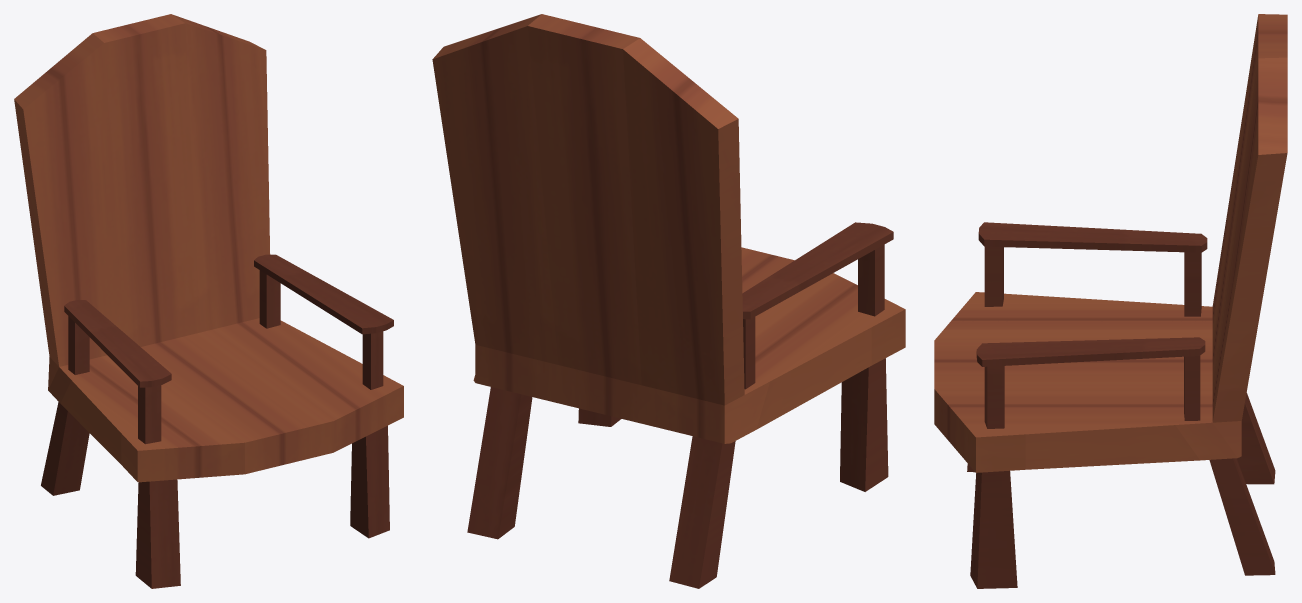
The model's file is chair.fbx.
3 renders of one model, left to right at view 1: azimuth 30°, elevation 25°; view 2: azimuth 150°, elevation 25°; view 3: azimuth 270°, elevation 25°, orthographic. The views are drawn at different scales.
Visible parts, largest first — view 1: Cube; view 2: Cube; view 3: Cube.
Boxes of the visible parts, bbox=[...] form: Cube: bbox=[14, 14, 403, 588]; Cube: bbox=[432, 14, 905, 588]; Cube: bbox=[934, 14, 1287, 588].
Bounding box in the file's own units: 23.83 × 37.2 × 24.43.
Materials: 1 (1 with a texture image).
